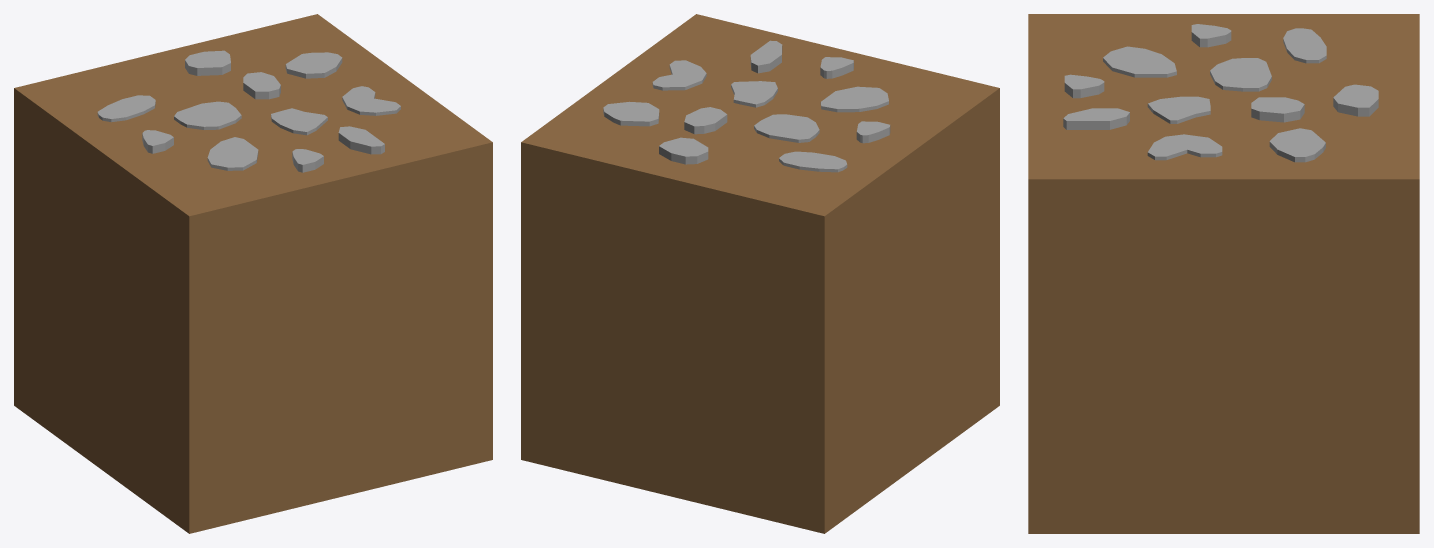
Rendered from RPG_Tiles_Square_Dirt_Stones_01.FBX.
3 views of the same model, side by side, from view 1: azimuth 30°, elevation 25°; view 2: azimuth 150°, elevation 25°; view 3: azimuth 270°, elevation 25° (orthographic). The views are drawn at different scales.
Parts seen in each view (by area): view 1: RPG_Tiles_Square_Dirt_Stones_01; view 2: RPG_Tiles_Square_Dirt_Stones_01; view 3: RPG_Tiles_Square_Dirt_Stones_01.
Part boxes in pixels (x1,y1,x2,y2): RPG_Tiles_Square_Dirt_Stones_01: (14, 14, 492, 533); RPG_Tiles_Square_Dirt_Stones_01: (521, 14, 999, 533); RPG_Tiles_Square_Dirt_Stones_01: (1028, 14, 1419, 533).
Size of the model in its own units: 3000 by 3074 by 3000.
